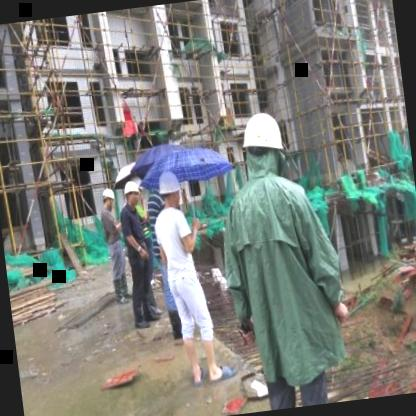helmet: (235, 107, 292, 190), (152, 162, 186, 210), (120, 177, 140, 209), (100, 184, 116, 212)
